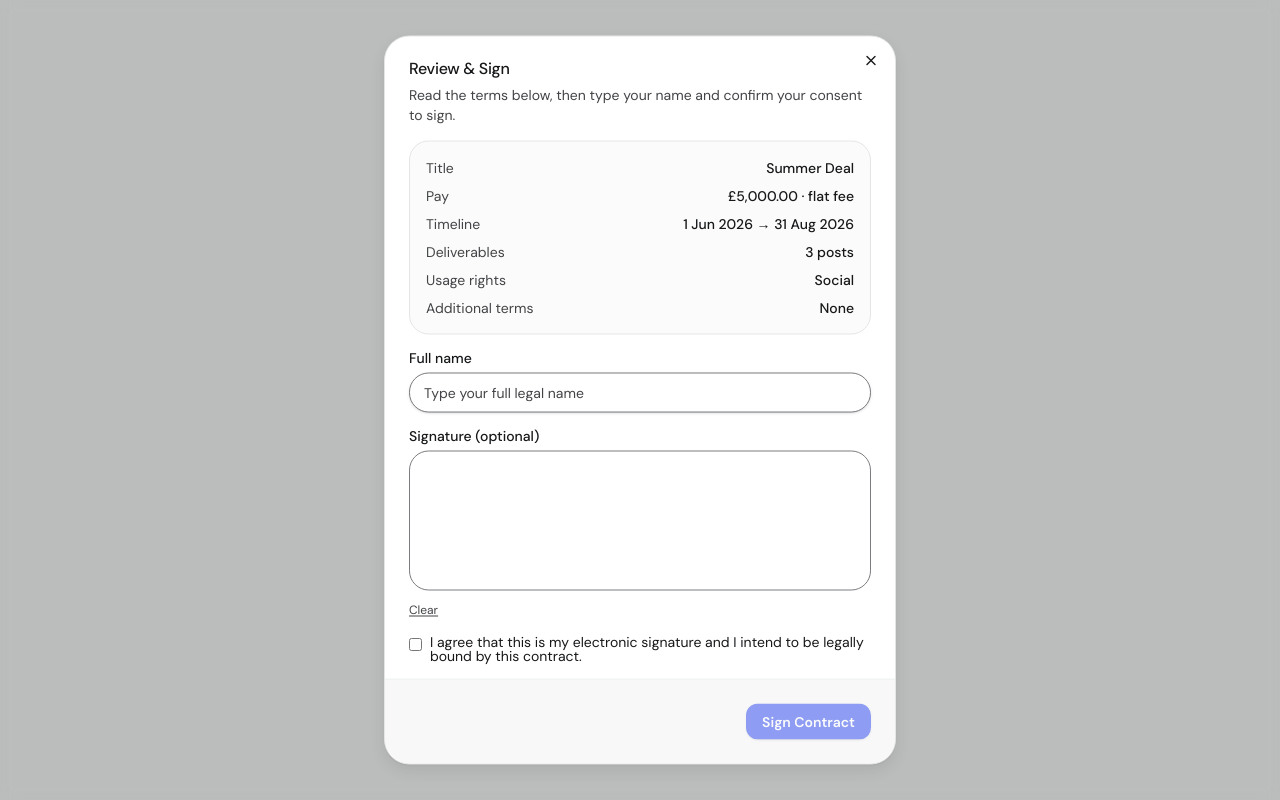
Test: ReviewAndSignDialog › disables submit until a name is typed and consent is ticked
expect the button "Sign Contract" is disabled: met, box [746,704,871,740]
Type "Ada Buyer" into the field labelled "Full name" at (640, 392), box [409,372,871,412]
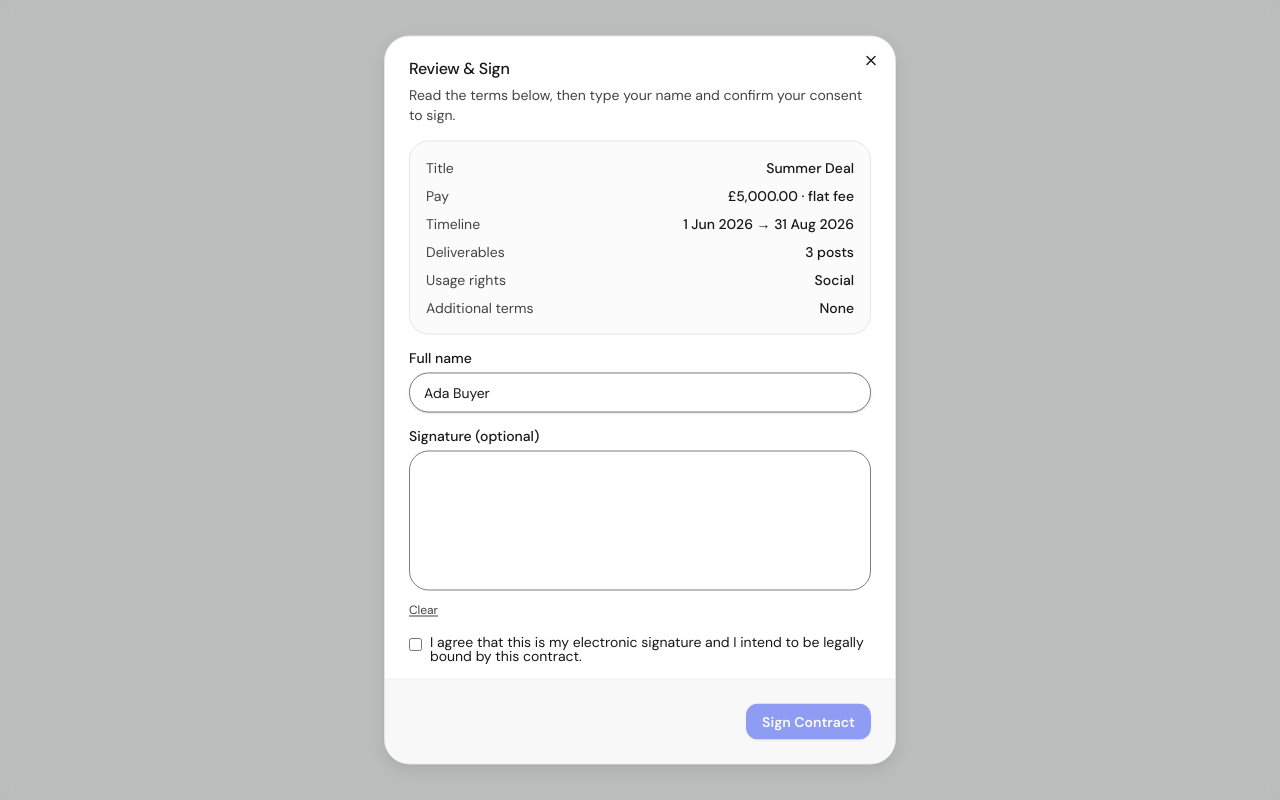
Click the checkbox labelled "I agree" at (416, 644), box [409,636,422,652]
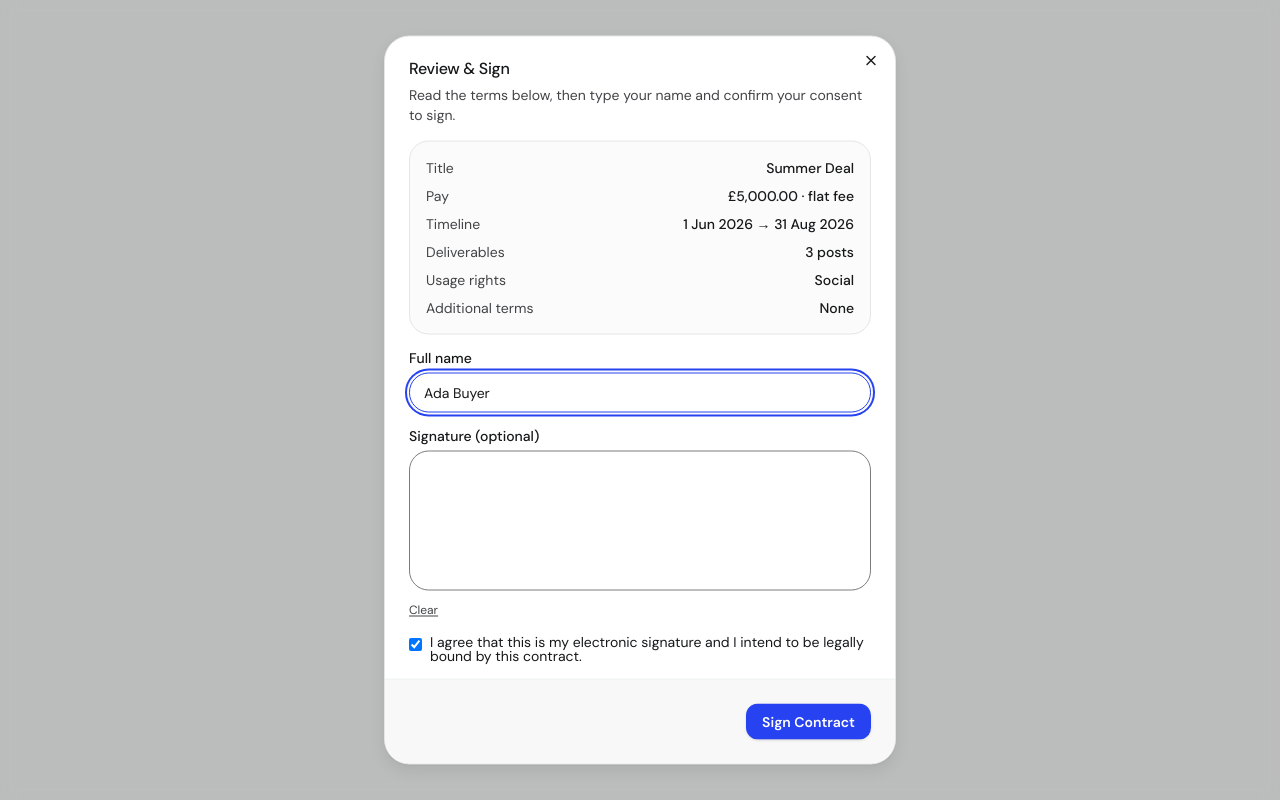
expect the button "Sign Contract" is enabled: met, box [746,704,871,740]
